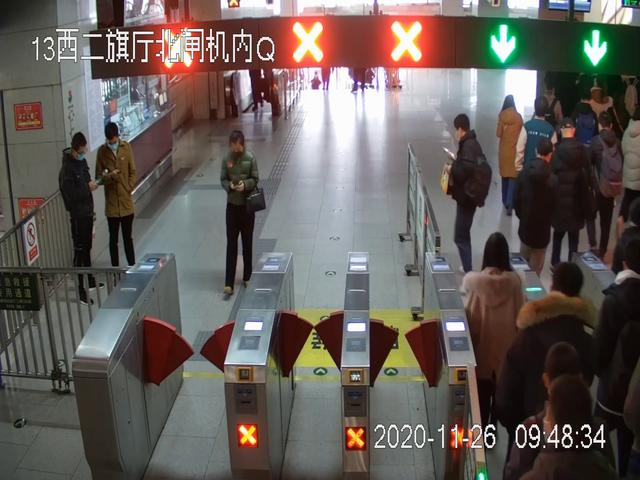person: (497, 263, 601, 480), (505, 342, 625, 480), (464, 230, 527, 455), (440, 114, 492, 295), (59, 133, 105, 307), (220, 130, 267, 298), (514, 142, 558, 293), (96, 122, 138, 270), (550, 117, 588, 278), (585, 112, 625, 259), (495, 94, 527, 218)
